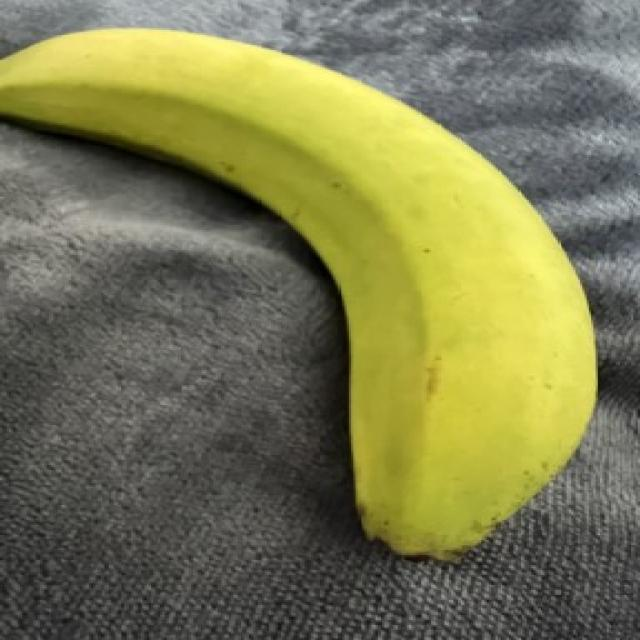Unripe: (0, 0, 618, 575)
